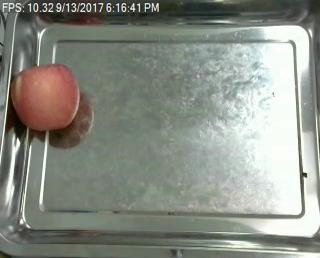apple: (11, 64, 79, 129)
